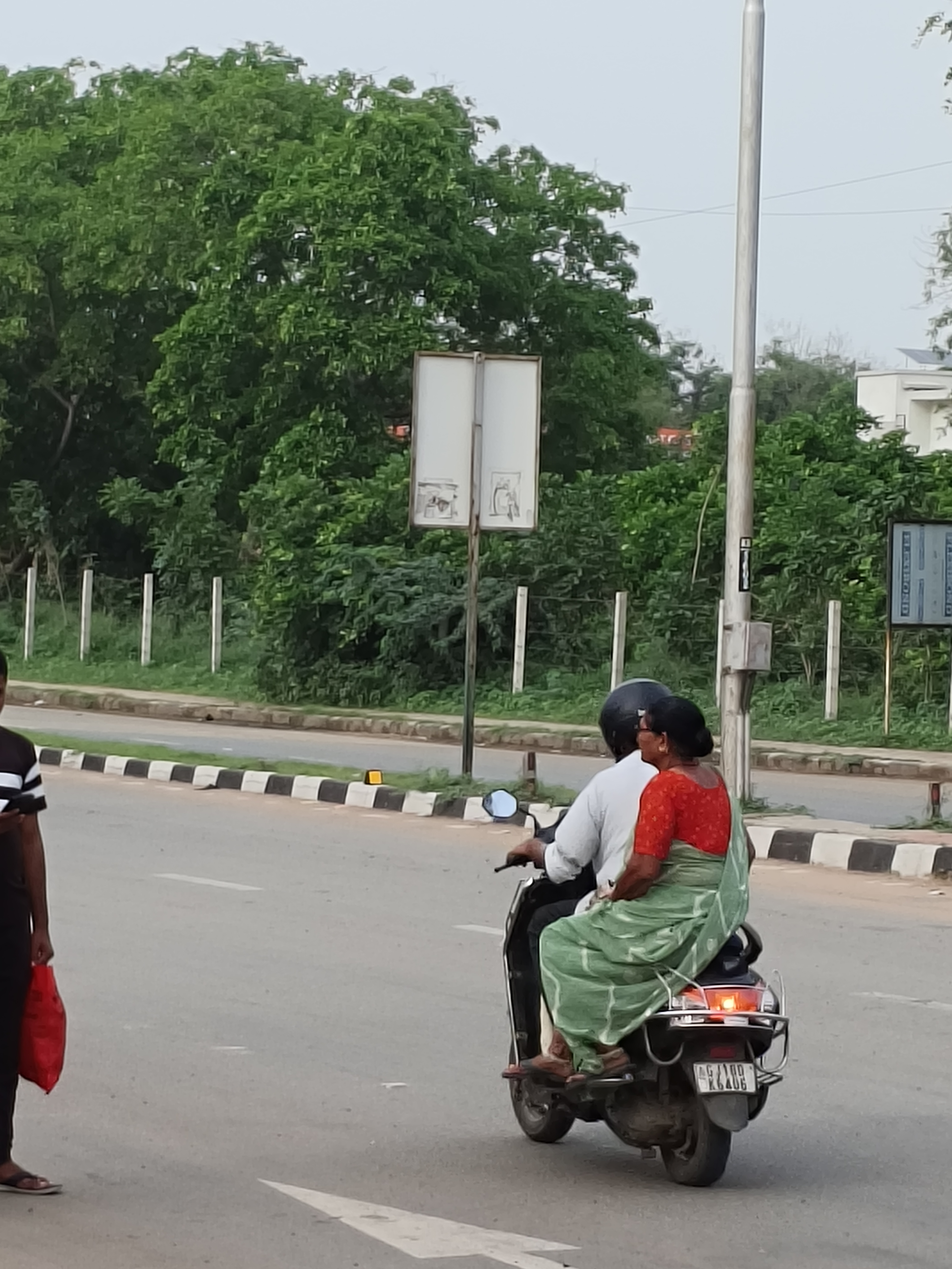BikeWithRider: (467, 672, 807, 1196)
Helmet: (591, 674, 679, 773)
NoHelmet: (634, 692, 729, 779)
